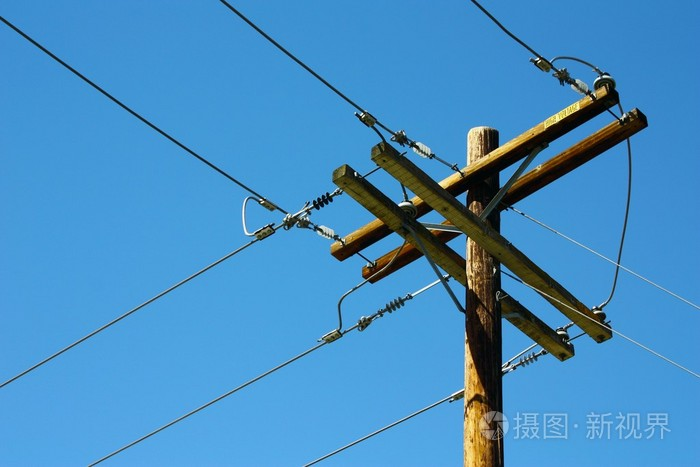insulator: (311, 192, 331, 212), (386, 297, 406, 315), (518, 353, 539, 368)
